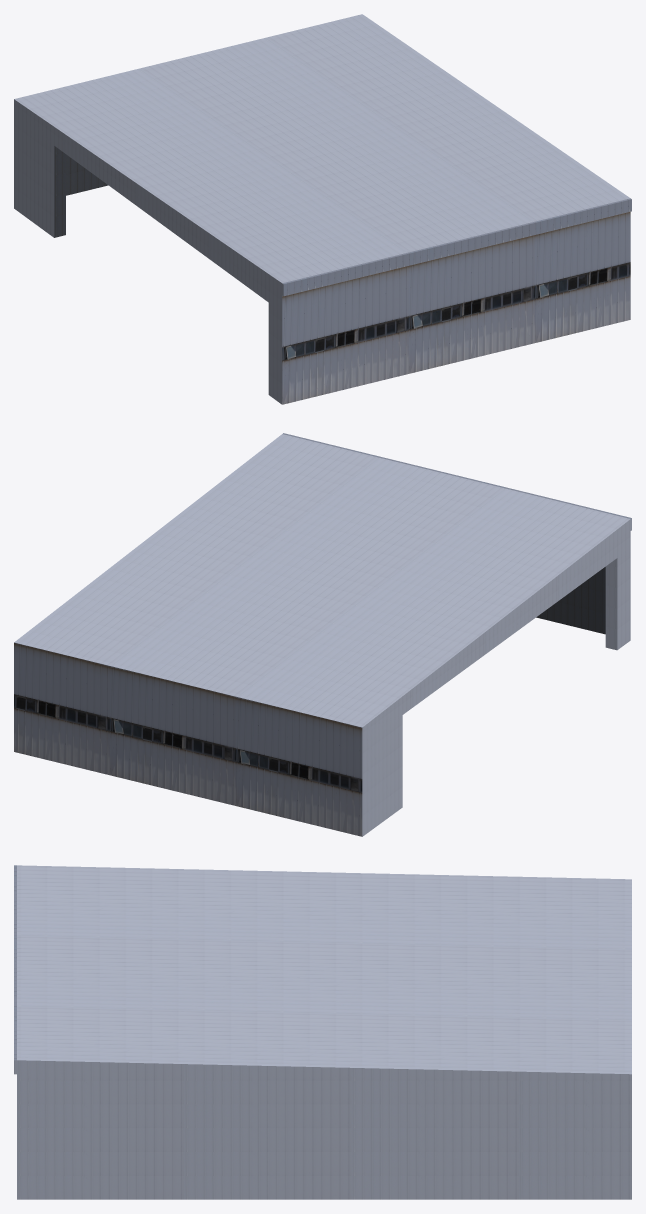
The model's file is HERZELIAHANGAR3.gltf.
3 views of the same model, one above another, from view 1: azimuth 30°, elevation 25°; view 2: azimuth 150°, elevation 25°; view 3: azimuth 270°, elevation 25° (orthographic). The views are drawn at different scales.
Parts seen in each view (by area): view 1: node3, node1, node2; view 2: node3, node1, node2; view 3: node3, node1.
Part boxes in pixels (bbox=[...]): node3: bbox=[14, 14, 629, 404]; node1: bbox=[282, 198, 631, 404]; node2: bbox=[54, 146, 108, 237]; node3: bbox=[14, 434, 631, 836]; node1: bbox=[14, 433, 631, 836]; node2: bbox=[536, 567, 605, 634]; node3: bbox=[14, 865, 631, 1199]; node1: bbox=[14, 865, 16, 1060].
Bounding box in the file's own units: 15 × 5 × 20.1.
3 materials, 3 textured.
